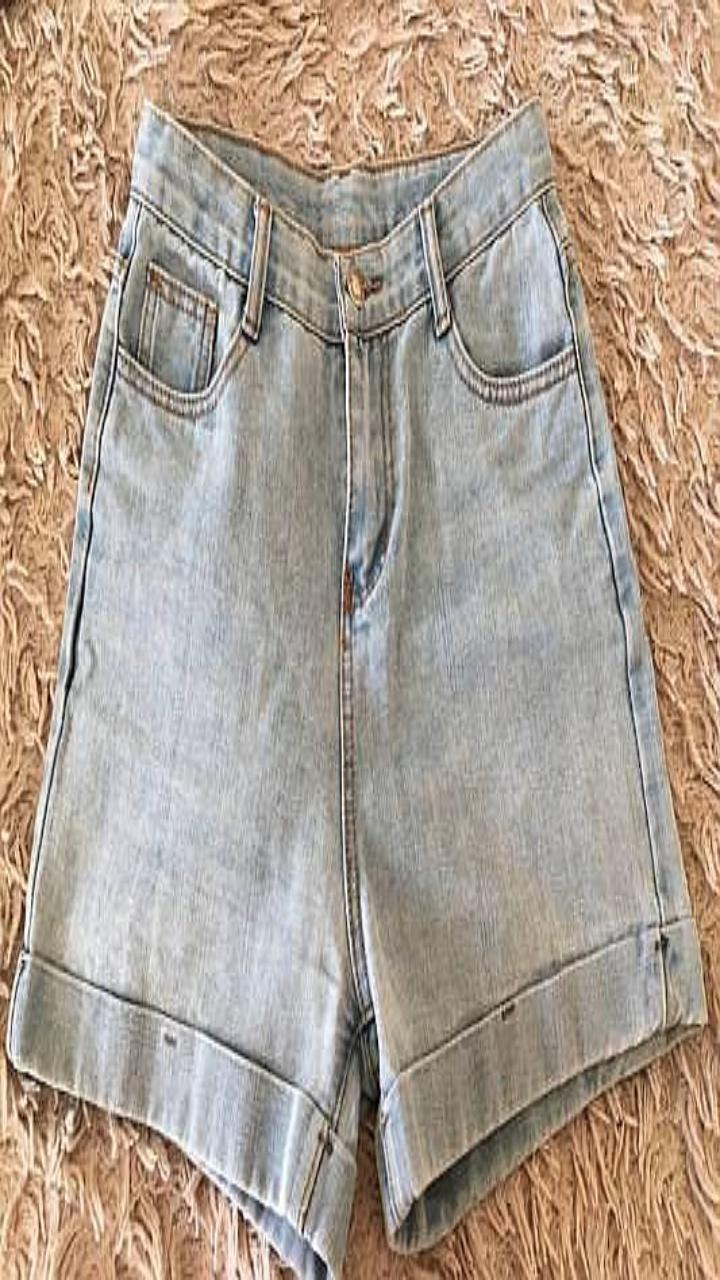Shorts: (7, 98, 706, 1279)
